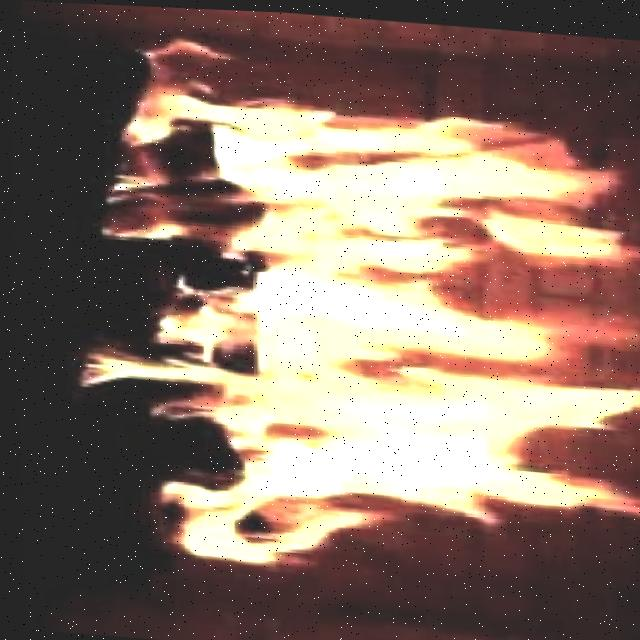Fire: (49, 15, 640, 607)
